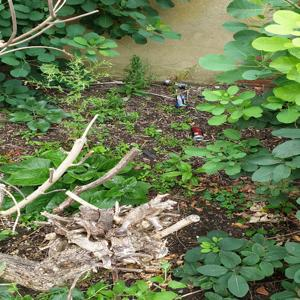metal: (171, 77, 192, 117), (190, 118, 208, 141)
